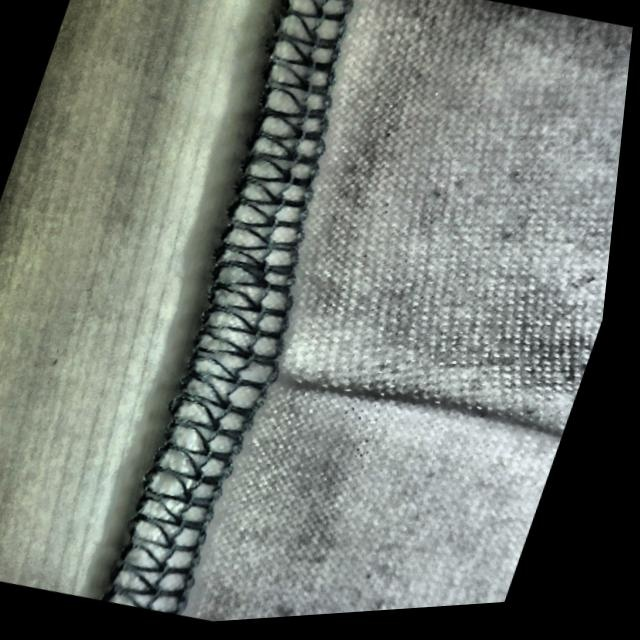seam: (158, 257, 535, 506)
